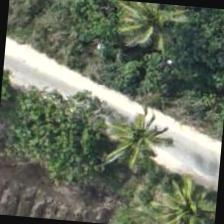Kelapa_Sawit: (84, 89, 182, 187), (102, 0, 198, 71), (140, 164, 220, 223)
